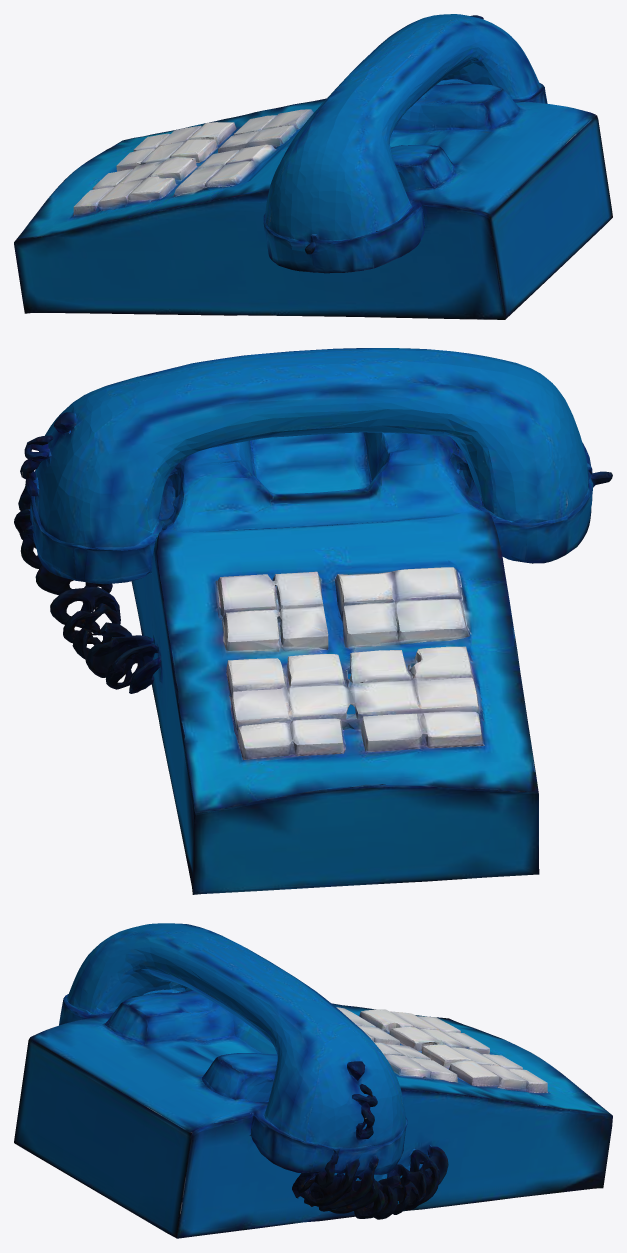
Rendered from teal_telephone_on_side_table_000.glb.
3 renders of one model, top to bottom at view 1: azimuth 30°, elevation 25°; view 2: azimuth 150°, elevation 25°; view 3: azimuth 270°, elevation 25°, orthographic. The views are drawn at different scales.
Parts seen in each view (by area): view 1: teal_telephone_on_side_table_000.obj; view 2: teal_telephone_on_side_table_000.obj; view 3: teal_telephone_on_side_table_000.obj.
Part boxes in pixels (left/top/right/bottom): teal_telephone_on_side_table_000.obj: left=14, top=14, right=612, bottom=319; teal_telephone_on_side_table_000.obj: left=14, top=348, right=612, bottom=894; teal_telephone_on_side_table_000.obj: left=14, top=923, right=612, bottom=1238.
Size of the model in its own units: 0.226 by 0.1239 by 0.2491.
Materials: 1 (1 with a texture image).
